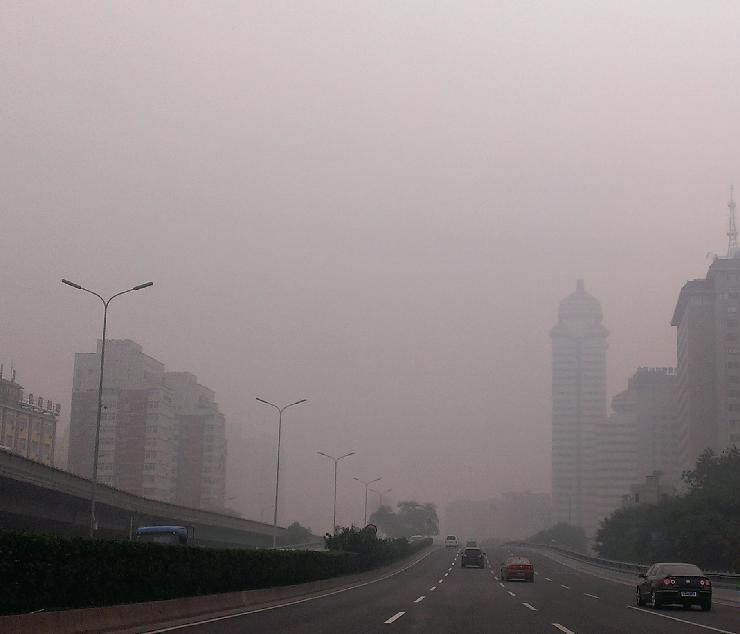bus: (132, 523, 261, 584)
car: (635, 560, 711, 612), (499, 555, 534, 582), (460, 545, 486, 568), (443, 535, 458, 549)
